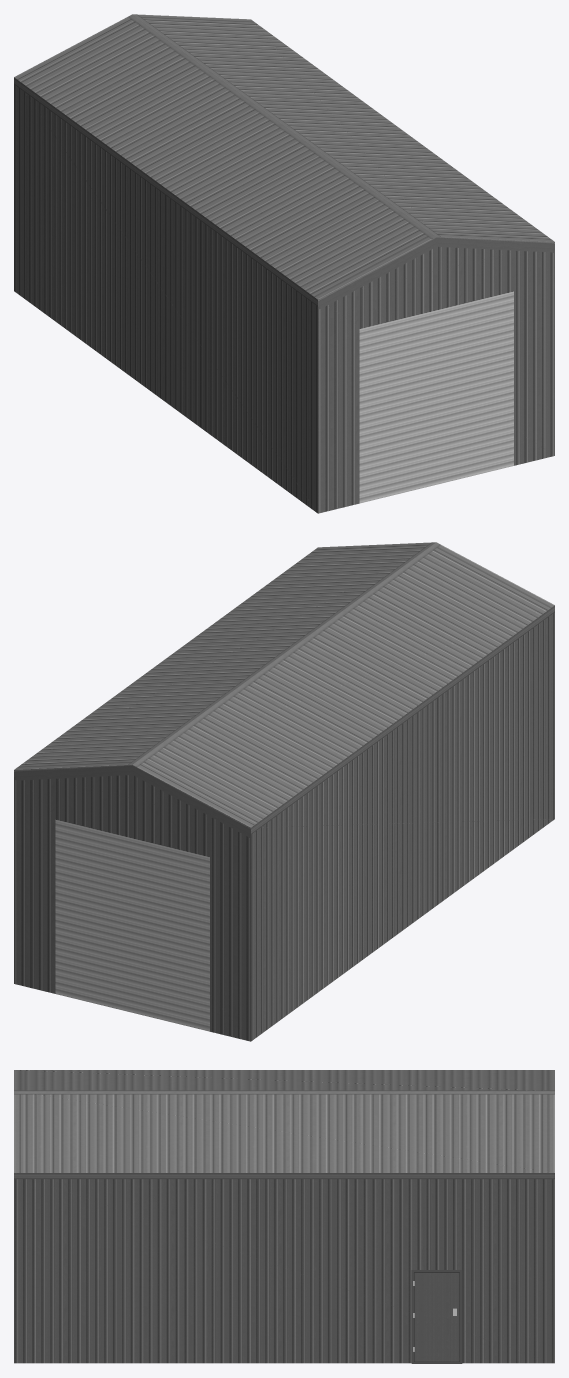
File: shed-5x12x5-cbj_LOD01.gltf
The picture shows the model from 3 angles, top to bottom: view 1: azimuth 30°, elevation 25°; view 2: azimuth 150°, elevation 25°; view 3: azimuth 270°, elevation 25°; orthographic projection. The views are drawn at different scales.
Visible parts, largest first — view 1: Cube01; view 2: Cube01; view 3: Cube01.
Boxes of the visible parts, left/top/right/bottom form: Cube01: left=14, top=14, right=554, bottom=513; Cube01: left=14, top=542, right=554, bottom=1041; Cube01: left=14, top=1070, right=554, bottom=1363.
Size of the model in its own units: 5.43 by 5.4 by 12.
